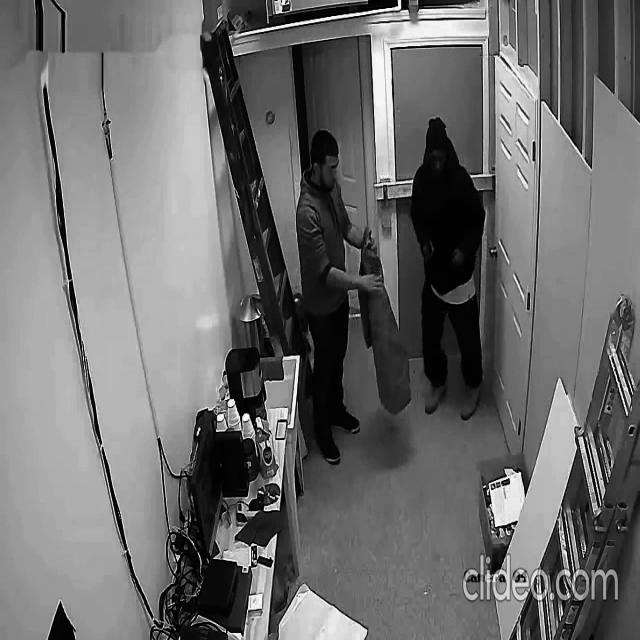gun: (424, 234, 434, 268)
person: (296, 130, 384, 464)
person with a gun: (411, 117, 487, 423)
